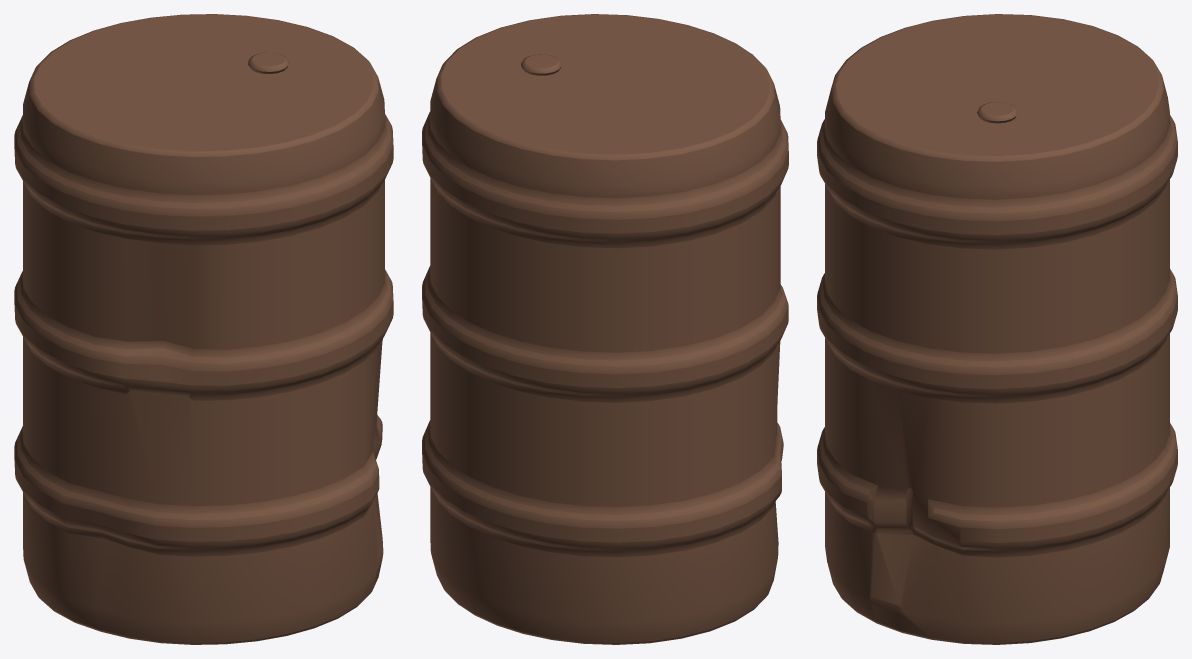
File: SM_Barrel_Dented.glb
3 renders of one model, left to right at view 1: azimuth 30°, elevation 25°; view 2: azimuth 150°, elevation 25°; view 3: azimuth 270°, elevation 25°, orthographic.
Visible parts, largest first — view 1: SM_Barrel_Dented; view 2: SM_Barrel_Dented; view 3: SM_Barrel_Dented.
Part boxes in pixels (bbox=[...]): SM_Barrel_Dented: bbox=[14, 14, 393, 644]; SM_Barrel_Dented: bbox=[422, 14, 788, 644]; SM_Barrel_Dented: bbox=[817, 14, 1177, 644].
Bounding box in the file's own units: 0.64 × 0.934 × 0.616.
